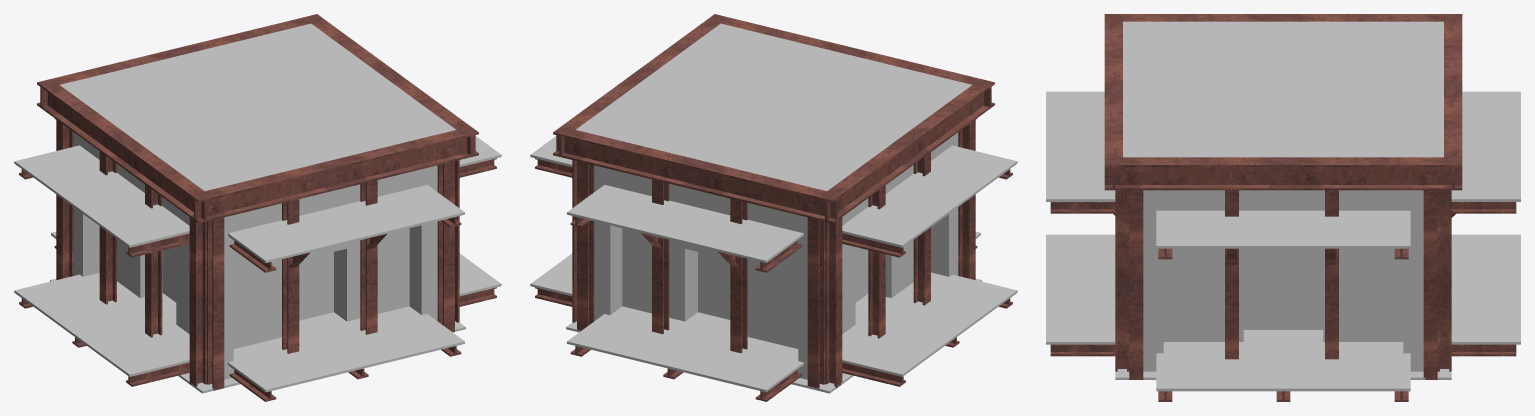
Rendered from Tower_steelBlock_v02.fbx.
3 views of the same model, side by side, from view 1: azimuth 30°, elevation 25°; view 2: azimuth 150°, elevation 25°; view 3: azimuth 270°, elevation 25° (orthographic). The views are drawn at different scales.
Parts seen in each view (by area): view 1: SteelWalls1 (×3), SteelCover, SteelBeam01 (×4), VertSteel01 (×3), VertSteel04 (×2), VertSteel03 (×2), VertSteel02 (×2), FloorBrace01, FloorBrace05, SteelBase, FloorBrace03, FloorBrace02; view 2: SteelWalls1 (×3), SteelCover, SteelBeam01 (×4), VertSteel04 (×3), VertSteel01 (×2), VertSteel02 (×2), VertSteel03 (×2), FloorBrace02, FloorBrace03, SteelBase, FloorBrace05, FloorBrace01; view 3: SteelWalls1 (×3), SteelCover, SteelBeam01 (×4), VertSteel01 (×2), VertSteel04 (×2), VertSteel02, VertSteel03, FloorBrace05, FloorBrace03, FloorBrace01, FloorBrace02, SteelBase.
Part boxes in pixels (x1,y1,x2,y2): SteelWalls1 (×3): [14, 132, 501, 392]; SteelCover: [60, 23, 455, 190]; SteelBeam01 (×4): [37, 14, 478, 223]; VertSteel01 (×3): [56, 119, 459, 390]; VertSteel04 (×2): [189, 161, 454, 386]; VertSteel03 (×2): [145, 180, 377, 337]; VertSteel02 (×2): [99, 151, 299, 353]; FloorBrace01: [126, 233, 189, 257]; FloorBrace05: [126, 362, 189, 386]; SteelBase: [50, 278, 465, 393]; FloorBrace03: [229, 366, 276, 401]; FloorBrace02: [229, 237, 276, 272]; SteelWalls1 (×3): [530, 132, 1017, 392]; SteelCover: [576, 23, 971, 190]; SteelBeam01 (×4): [553, 14, 994, 223]; VertSteel04 (×3): [572, 119, 975, 388]; VertSteel01 (×2): [577, 161, 842, 388]; VertSteel02 (×2): [652, 179, 885, 338]; VertSteel03 (×2): [730, 152, 930, 353]; FloorBrace02: [842, 233, 905, 257]; FloorBrace03: [842, 362, 905, 386]; SteelBase: [566, 278, 981, 393]; FloorBrace05: [755, 366, 802, 401]; FloorBrace01: [755, 237, 802, 272]; SteelWalls1 (×3): [1046, 91, 1520, 391]; SteelCover: [1123, 21, 1443, 157]; SteelBeam01 (×4): [1104, 14, 1462, 190]; VertSteel01 (×2): [1129, 190, 1451, 379]; VertSteel04 (×2): [1115, 190, 1437, 379]; VertSteel02: [1225, 190, 1238, 359]; VertSteel03: [1325, 190, 1338, 359]; FloorBrace05: [1050, 344, 1115, 356]; FloorBrace03: [1451, 344, 1516, 356]; FloorBrace01: [1050, 202, 1115, 213]; FloorBrace02: [1451, 202, 1516, 213]; SteelBase: [1115, 369, 1451, 379].
Bounding box in the file's own units: 7.85 × 4 × 7.85.
